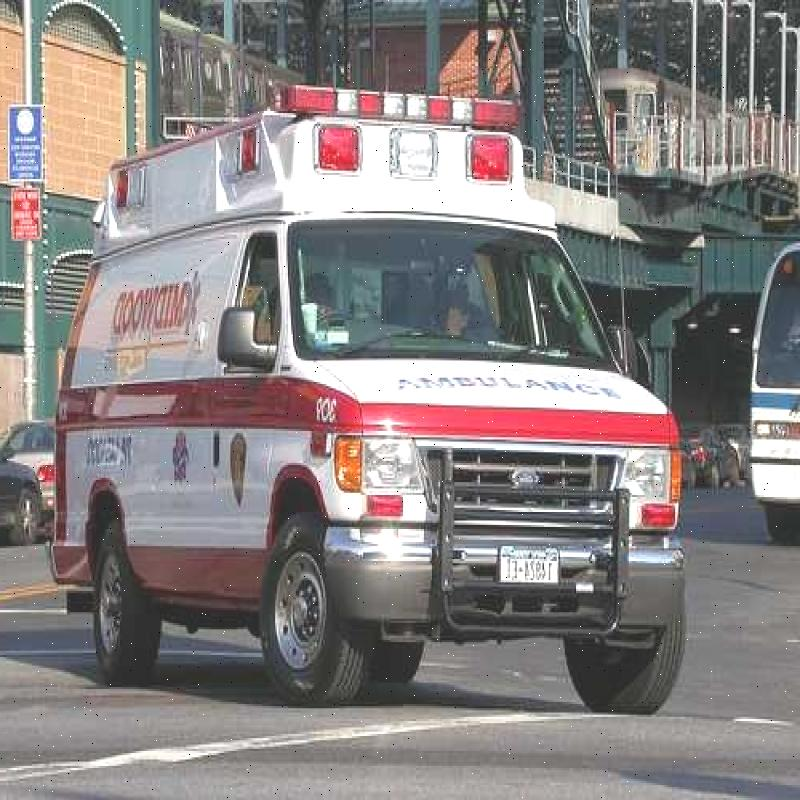AmbulanceSiren: (268, 70, 534, 143)
